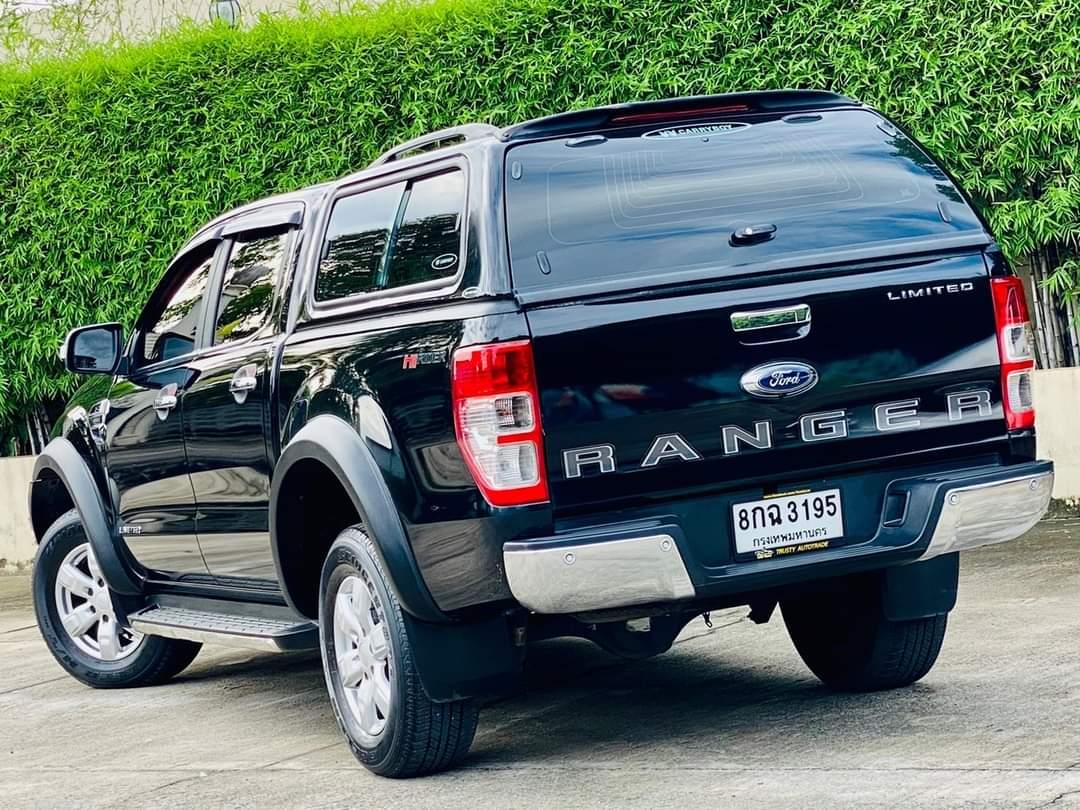license-plate: (722, 483, 856, 564)
